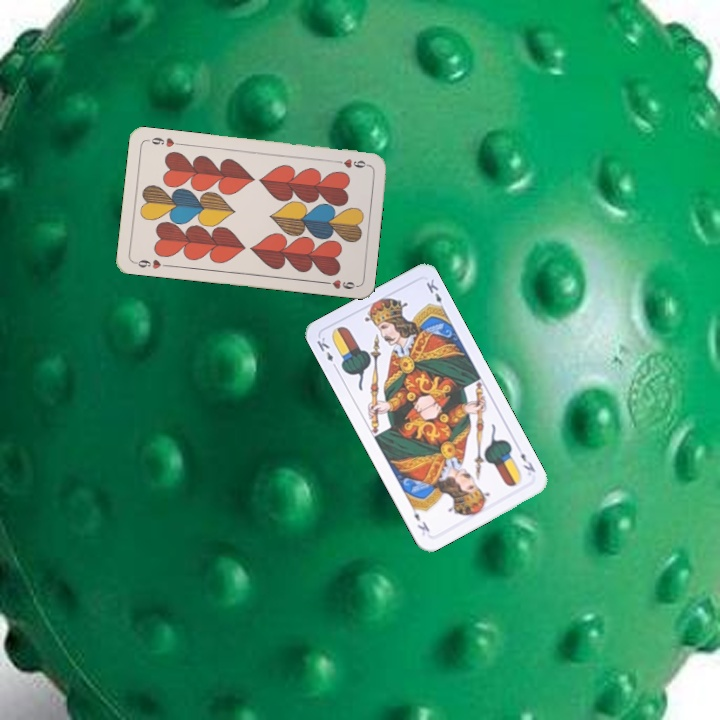EK: (313, 333, 340, 372), (516, 449, 538, 475)
H9: (130, 256, 171, 272), (331, 155, 371, 171)
